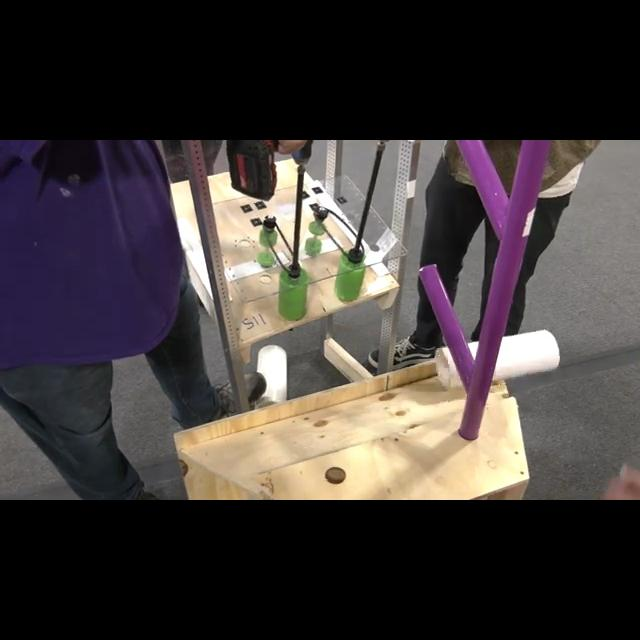CORAL: (433, 328, 561, 388), (256, 344, 288, 410)
